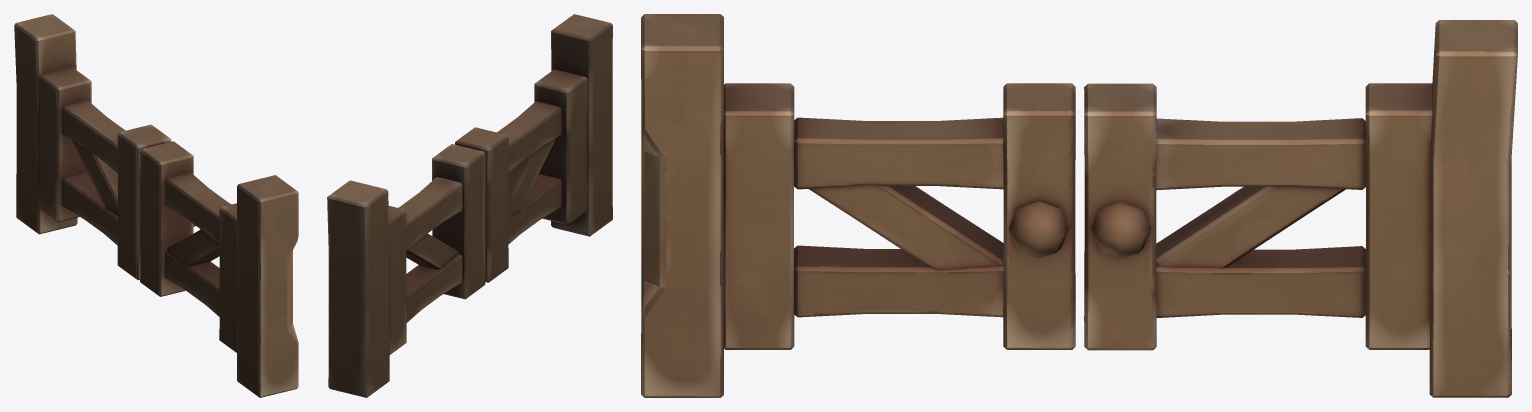
File: Gate.fbx
The picture shows the model from 3 angles, left to right: view 1: azimuth 30°, elevation 25°; view 2: azimuth 150°, elevation 25°; view 3: azimuth 270°, elevation 25°; orthographic projection. The views are drawn at different scales.
Visible parts, largest first — view 1: Cube.048, Cube.056, Cube.044, Cube.050, Cube.051, Cube.043, Cube.052, Cube.045, Cube.053, Cube.046, Cube.054, Cube.047; view 2: Cube.056, Cube.048, Cube.043, Cube.051, Cube.044, Cube.050, Cube.052, Cube.045, Cube.053, Cube.046, Cube.047, Cube.054; view 3: Cube.048, Cube.056, Cube.043, Cube.050, Cube.051, Cube.044, Cube.052, Cube.045, Cube.053, Cube.046, Cube.047, Cube.054 (+2 smaller).
Boxes of the visible parts, x1=… form: Cube.048: x1=237, y1=175, x2=298, y2=397; Cube.056: x1=14, y1=14, x2=77, y2=234; Cube.044: x1=140, y1=141, x2=193, y2=296; Cube.050: x1=38, y1=67, x2=91, y2=222; Cube.051: x1=117, y1=124, x2=171, y2=279; Cube.043: x1=219, y1=203, x2=237, y2=352; Cube.052: x1=62, y1=100, x2=125, y2=173; Cube.045: x1=165, y1=172, x2=231, y2=244; Cube.053: x1=62, y1=172, x2=117, y2=245; Cube.046: x1=165, y1=250, x2=219, y2=316; Cube.054: x1=72, y1=140, x2=117, y2=215; Cube.047: x1=167, y1=229, x2=219, y2=266; Cube.056: x1=327, y1=180, x2=389, y2=397; Cube.048: x1=551, y1=14, x2=612, y2=236; Cube.043: x1=534, y1=69, x2=587, y2=224; Cube.051: x1=432, y1=144, x2=485, y2=299; Cube.044: x1=455, y1=127, x2=508, y2=282; Cube.050: x1=388, y1=206, x2=406, y2=354; Cube.052: x1=398, y1=177, x2=462, y2=250; Cube.045: x1=497, y1=101, x2=561, y2=172; Cube.053: x1=406, y1=254, x2=462, y2=322; Cube.046: x1=508, y1=174, x2=561, y2=244; Cube.047: x1=508, y1=138, x2=555, y2=217; Cube.054: x1=406, y1=233, x2=458, y2=269; Cube.048: x1=641, y1=14, x2=723, y2=397; Cube.056: x1=1429, y1=20, x2=1517, y2=397; Cube.043: x1=723, y1=83, x2=794, y2=349; Cube.050: x1=1365, y1=83, x2=1432, y2=349; Cube.051: x1=1084, y1=83, x2=1156, y2=350; Cube.044: x1=1003, y1=83, x2=1075, y2=349; Cube.052: x1=1156, y1=118, x2=1365, y2=189; Cube.045: x1=794, y1=117, x2=1003, y2=189; Cube.053: x1=1156, y1=246, x2=1365, y2=317; Cube.046: x1=794, y1=245, x2=1003, y2=317; Cube.047: x1=809, y1=184, x2=1003, y2=270; Cube.054: x1=1156, y1=186, x2=1345, y2=268.
Bounding box in the file's own units: 2.97 × 10.72 × 24.21.
